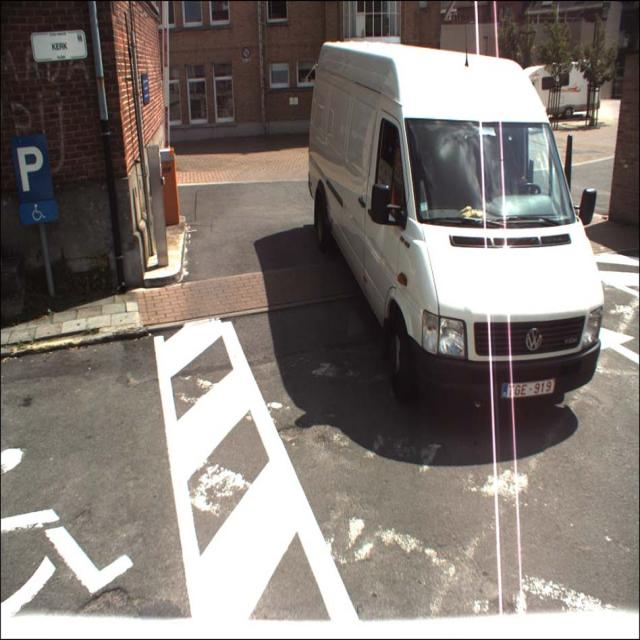park: (12, 132, 52, 202)
